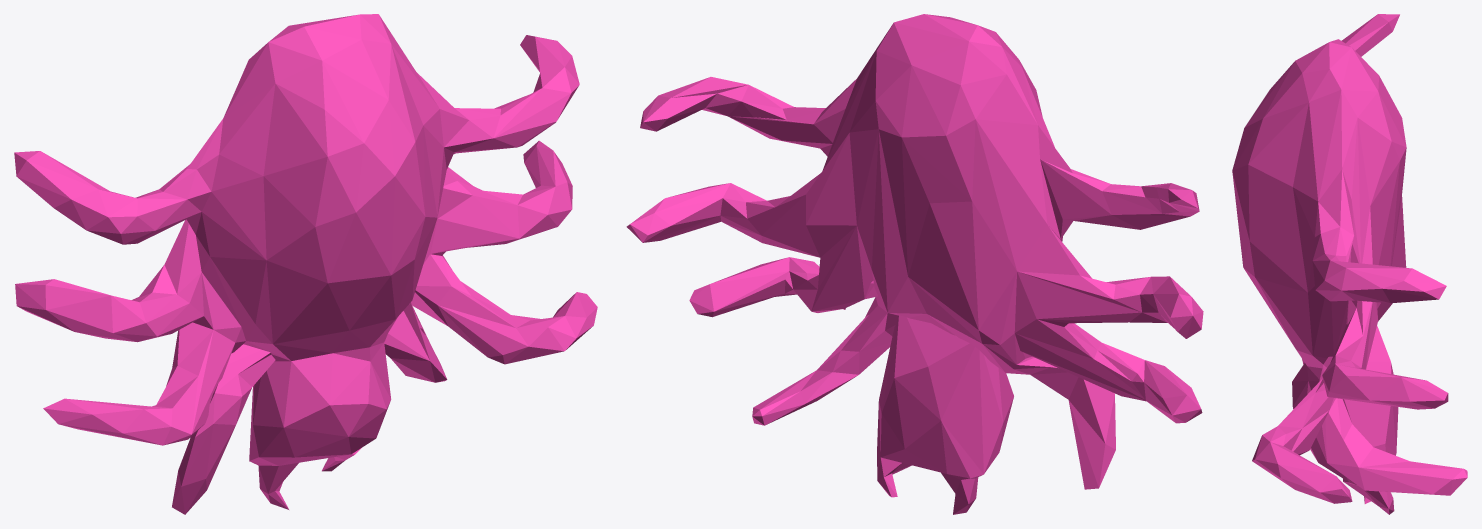
File: aranya2_000005.obj
3 views of the same model, side by side, from view 1: azimuth 30°, elevation 25°; view 2: azimuth 150°, elevation 25°; view 3: azimuth 270°, elevation 25° (orthographic). The views are drawn at different scales.
Parts seen in each view (by area): view 1: Cube; view 2: Cube; view 3: Cube.
Boxes of the visible parts, box(x1,y1,x2,y2) form: Cube: box(14, 14, 597, 514); Cube: box(626, 14, 1203, 514); Cube: box(1232, 14, 1467, 514).
Bounding box in the file's own units: 20.33 × 17.12 × 7.94.
Materials: 1 (1 with a texture image).
